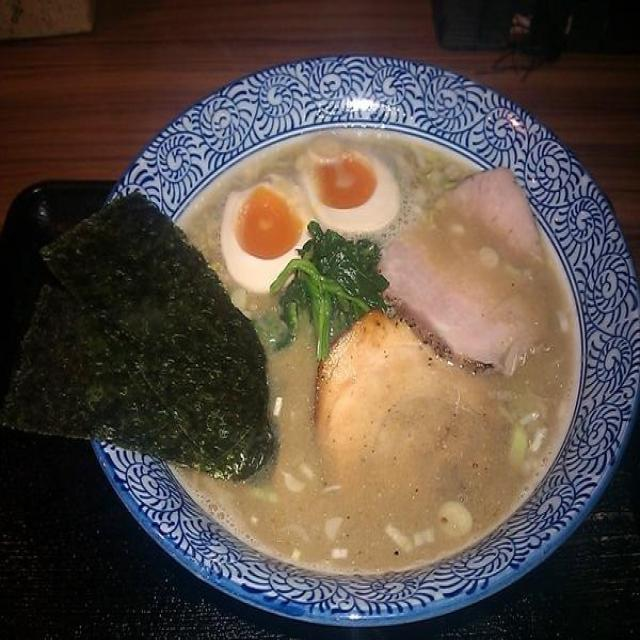面条主食: (30, 44, 637, 629)
